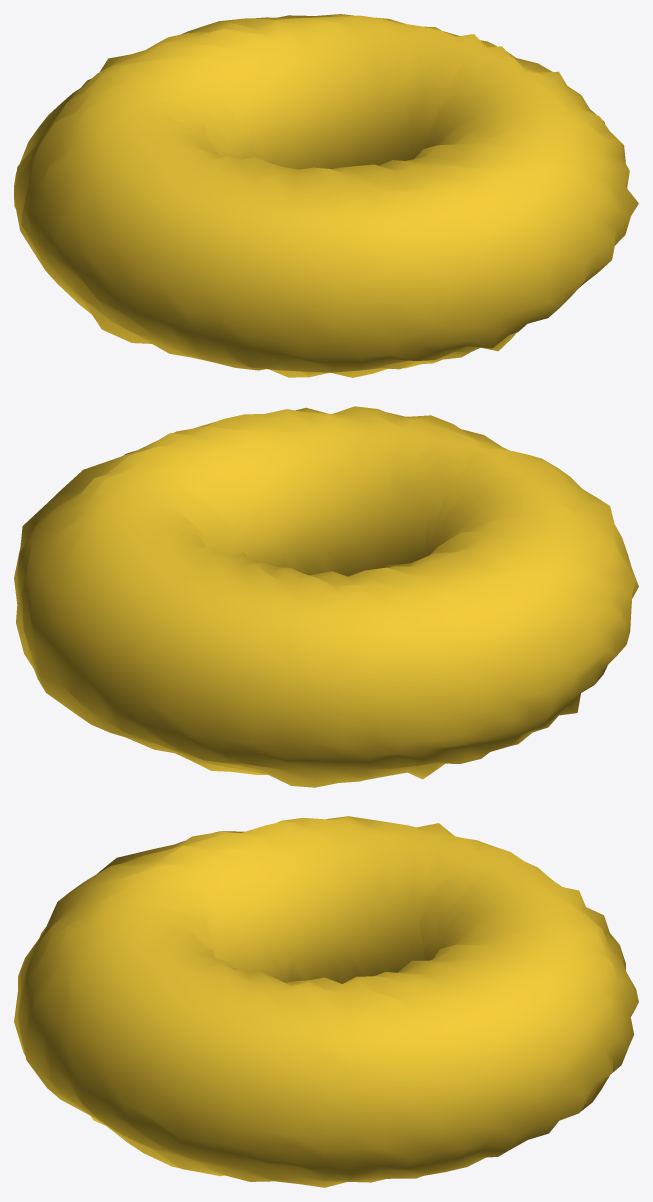
File: cereal_yellow.obj
3 views of the same model, one above another, from view 1: azimuth 30°, elevation 25°; view 2: azimuth 150°, elevation 25°; view 3: azimuth 270°, elevation 25° (orthographic). The views are drawn at different scales.
Bounding box in the file's own units: 1.56 × 0.5558 × 1.55.
